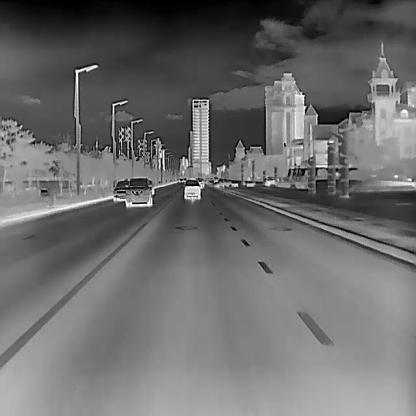car: (125, 178, 151, 207), (112, 179, 130, 200), (183, 178, 200, 199), (214, 178, 232, 188), (264, 176, 280, 186), (196, 176, 204, 188)
